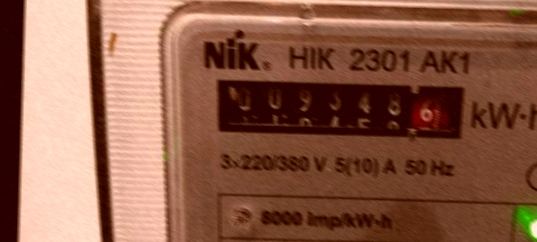0: (235, 86, 251, 112), (266, 84, 280, 110)
3: (327, 86, 341, 112)
4: (354, 85, 372, 116)
6: (416, 95, 434, 124)
8: (386, 89, 401, 117)
9: (297, 88, 311, 115)
screen: (197, 65, 477, 150)
